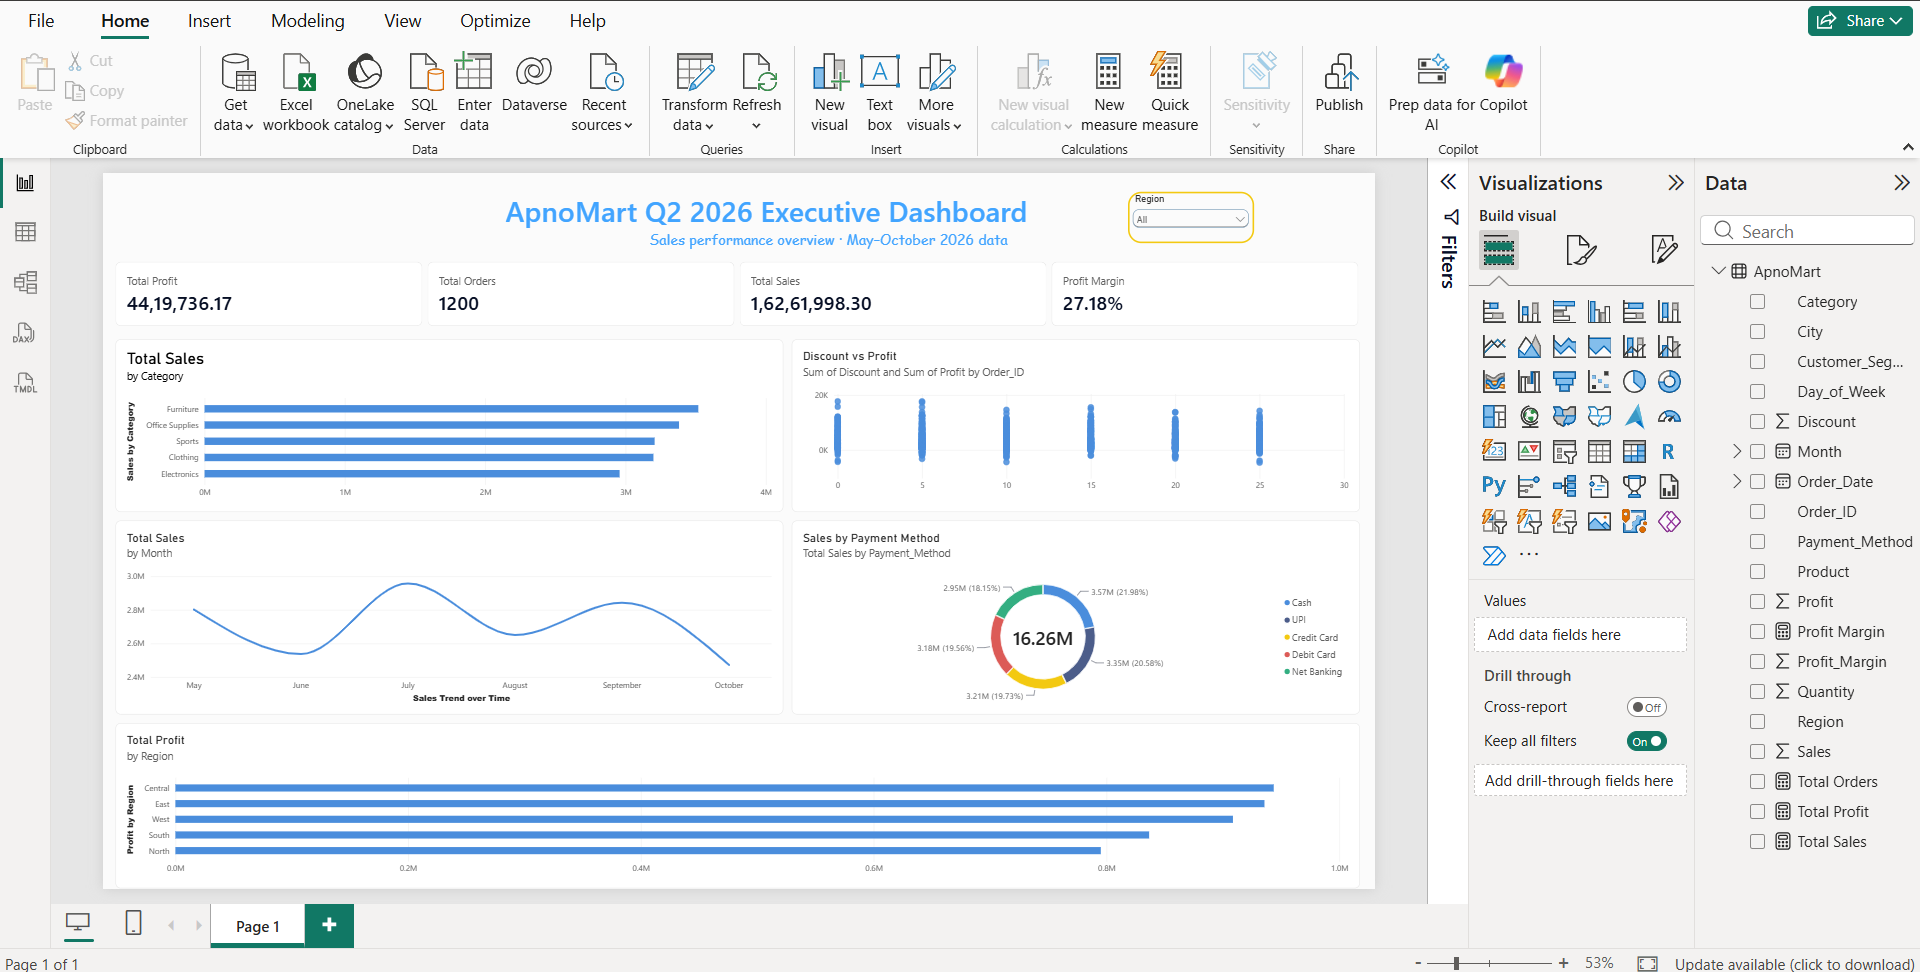

The page's visual inventory and layout, read from the dashboard file:
{"tool":"powerbi","page":{"name":"Page 1","canvas":[1920,1080],"ordinal":0},"visuals":[{"type":"textbox","box":[607.2,28.8,975.6,117.3],"z":4},{"type":"cardVisual","fields":{"Data":["ApnoMart.Profit Margin","ApnoMart.Total Profit","ApnoMart.Total Orders","ApnoMart.Total Sales"]},"box":[18.1,133.9,1878.4,97.7],"z":5},{"type":"clusteredBarChart","fields":{"Category":["ApnoMart.Category"],"Y":["ApnoMart.Total Sales"]},"box":[18.1,251.5,1008,260.6],"z":6},{"type":"lineChart","fields":{"Category":["ApnoMart.Order_Date.Variation.Date Hierarchy.Month"],"Y":["ApnoMart.Total Sales"]},"box":[18.1,524.8,1008,293.2],"z":7},{"type":"clusteredBarChart","fields":{"Category":["ApnoMart.Region"],"Y":["ApnoMart.Total Profit"]},"box":[18.1,830.6,1878.4,249.7],"z":8},{"type":"slicer","fields":{"Values":["ApnoMart.Region"]},"box":[1547.3,29,190,77.8],"z":9},{"type":"scatterChart","title":"Discount vs Profit","fields":{"Category":["ApnoMart.Order_ID"],"X":["Sum(ApnoMart.Discount)"],"Y":["Sum(ApnoMart.Profit)"]},"box":[1038.7,251.5,857.8,260.6],"z":10},{"type":"donutChart","title":"Sales by Payment Method","fields":{"Category":["ApnoMart.Payment_Method"],"Y":["ApnoMart.Total Sales"]},"box":[1038.7,524.8,857.8,293.2],"z":11}]}

Visuals, with their boxes on the page's 1920x1080 design canvas (x1, y1, x2, y2). These are canvas units, not pixel positions in the 1920x972 screenshot, which may show the page scaled, cropped or inside an application window:
textbox: Rect(607, 29, 1583, 146)
cardVisual - ApnoMart.Profit Margin x ApnoMart.Total Profit: Rect(18, 134, 1896, 232)
clusteredBarChart - ApnoMart.Category x ApnoMart.Total Sales: Rect(18, 252, 1026, 512)
lineChart - ApnoMart.Order_Date.Variation.Date Hierarchy.Month x ApnoMart.Total Sales: Rect(18, 525, 1026, 818)
clusteredBarChart - ApnoMart.Region x ApnoMart.Total Profit: Rect(18, 831, 1896, 1080)
slicer - ApnoMart.Region: Rect(1547, 29, 1737, 107)
"Discount vs Profit" scatterChart: Rect(1039, 252, 1896, 512)
"Sales by Payment Method" donutChart: Rect(1039, 525, 1896, 818)
